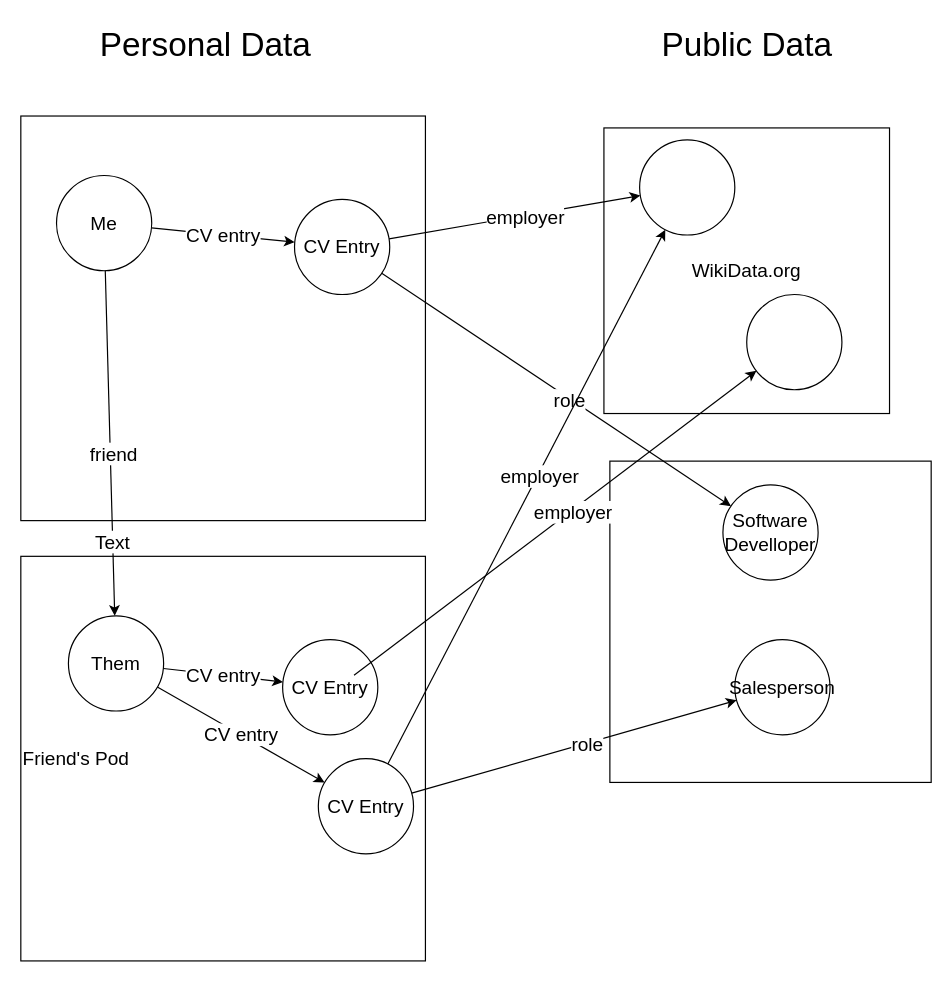
Image size: 952x982. Some labels were removed from this diagram. The shapes that lost their labels are listed below. From the top down, each one's box as (x1, y1, x2, y2) in pixels, then its label:
(638, 139, 735, 235): Acme Inc
(20, 115, 425, 521): My Pod
(746, 293, 842, 390): Example Inc
(609, 460, 931, 782): ESCO Terms
